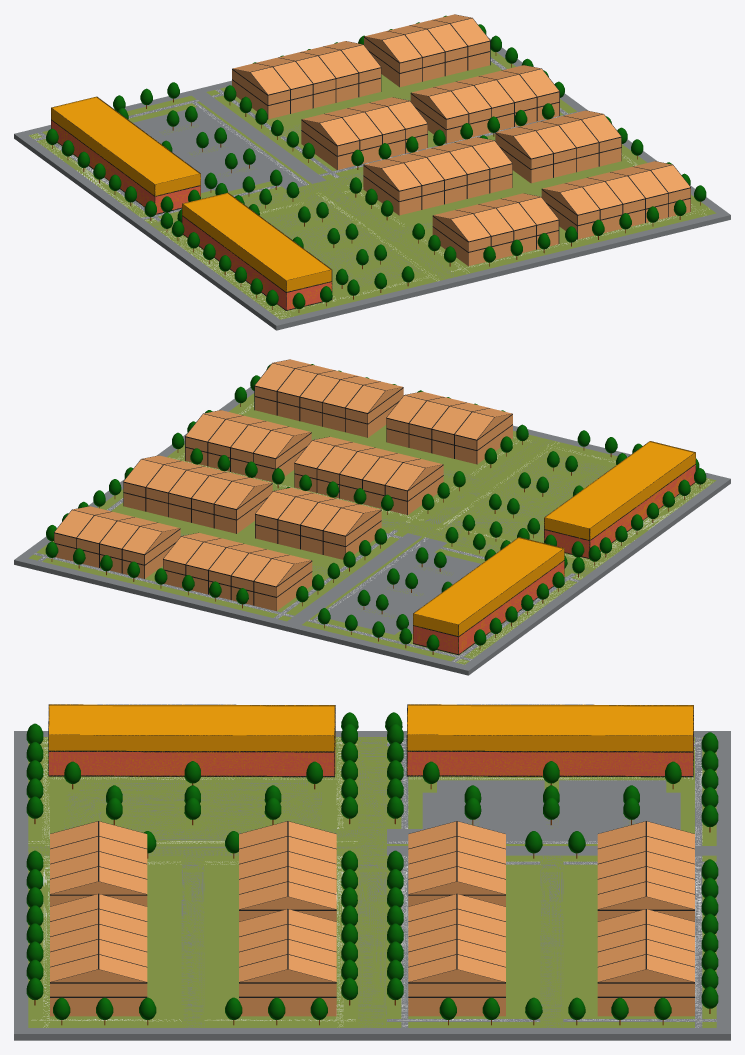
Rendered from 450_townhome_commercial_C.dae.
3 renders of one model, top to bottom at view 1: azimuth 30°, elevation 25°; view 2: azimuth 150°, elevation 25°; view 3: azimuth 270°, elevation 25°, orthographic. The views are drawn at different scales.
Visible parts, largest first — view 1: group_1 (×13), Component_4 (×36), _10k_Commercial_2 (×11); view 2: group_1 (×13), Component_4 (×36), _10k_Commercial_2 (×11); view 3: group_1 (×24), Component_4 (×92), _10k_Commercial_2 (×8).
Part boxes in pixels (box(x1,y1,x2,y2)): group_1 (×13): box(14, 37, 730, 330); Component_4 (×36): box(251, 18, 689, 241); _10k_Commercial_2 (×11): box(51, 96, 332, 310); group_1 (×13): box(14, 387, 730, 675); Component_4 (×36): box(55, 363, 493, 586); _10k_Commercial_2 (×11): box(413, 441, 695, 655); group_1 (×24): box(14, 731, 730, 1040); Component_4 (×92): box(50, 821, 694, 1016); _10k_Commercial_2 (×8): box(48, 704, 693, 777).
Bounding box in the file's own units: 97.5 × 97.5 × 8.
